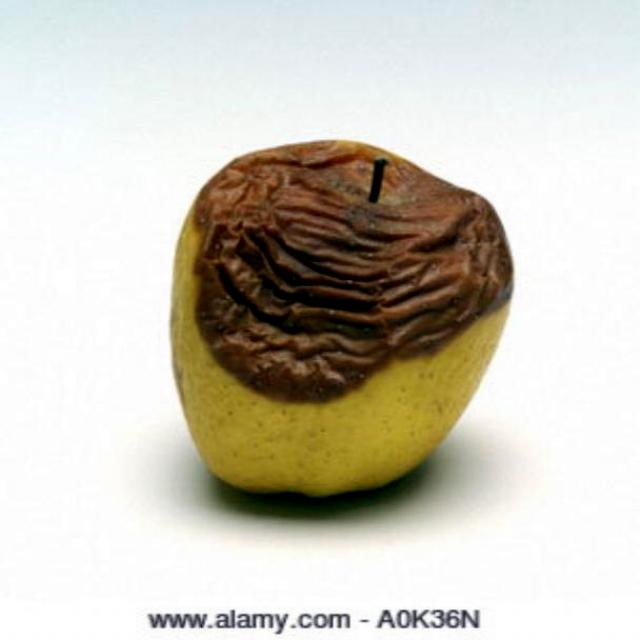ROT: (154, 121, 537, 506)
